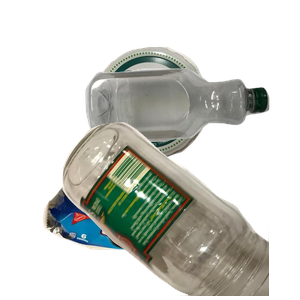glass: (60, 120, 300, 300)
metal: (90, 44, 289, 195)
plastic: (83, 66, 300, 201)
trash: (40, 158, 245, 300)
